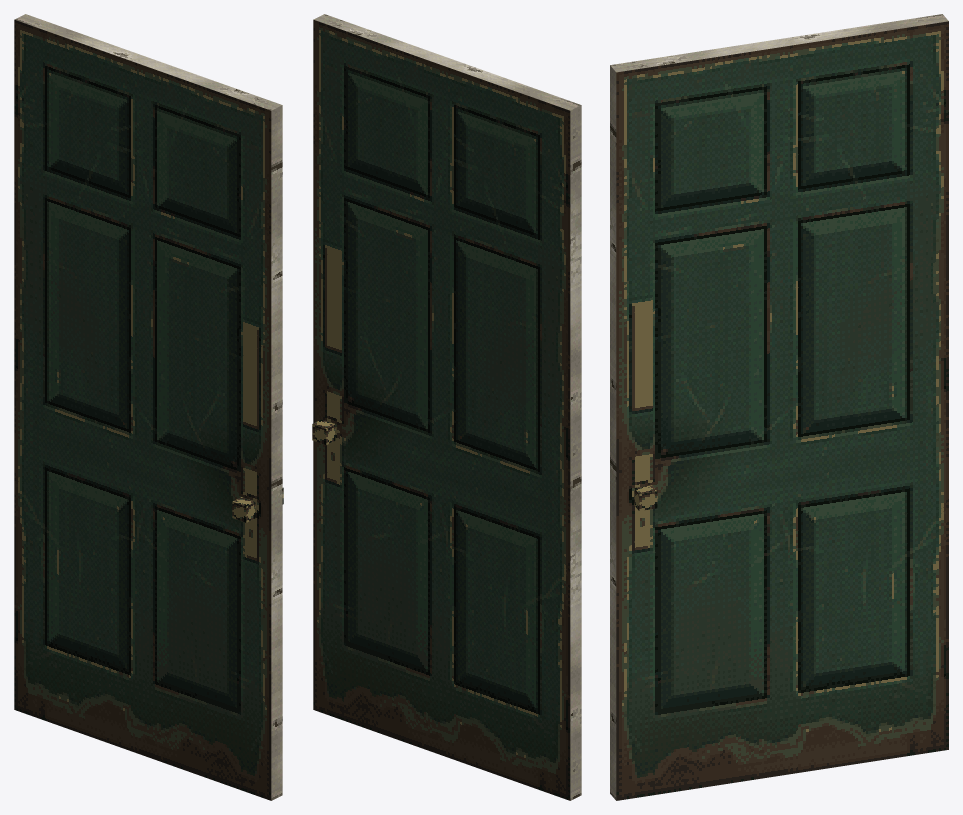
Rendered from house_door_open.glb.
3 views of the same model, side by side, from view 1: azimuth 30°, elevation 25°; view 2: azimuth 210°, elevation 25°; view 3: azimuth 270°, elevation 25° (orthographic). The views are drawn at different scales.
Visible parts, largest first — view 1: house_door_open; view 2: house_door_open; view 3: house_door_open.
Boxes of the visible parts, x1=… form: house_door_open: x1=14, y1=14, x2=283, y2=800; house_door_open: x1=312, y1=14, x2=581, y2=800; house_door_open: x1=610, y1=14, x2=948, y2=800.
Bounding box in the file's own units: 0.4144 × 2.18 × 0.9192.
2 materials, 2 textured.
